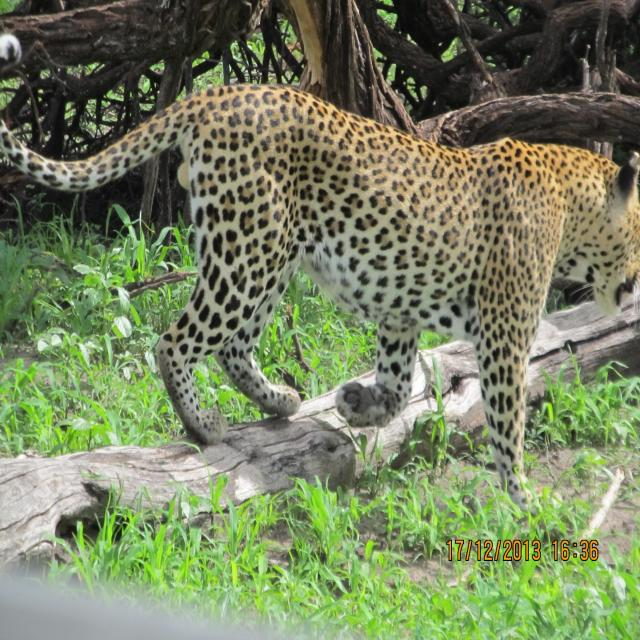Leopard: (3, 48, 640, 494)
